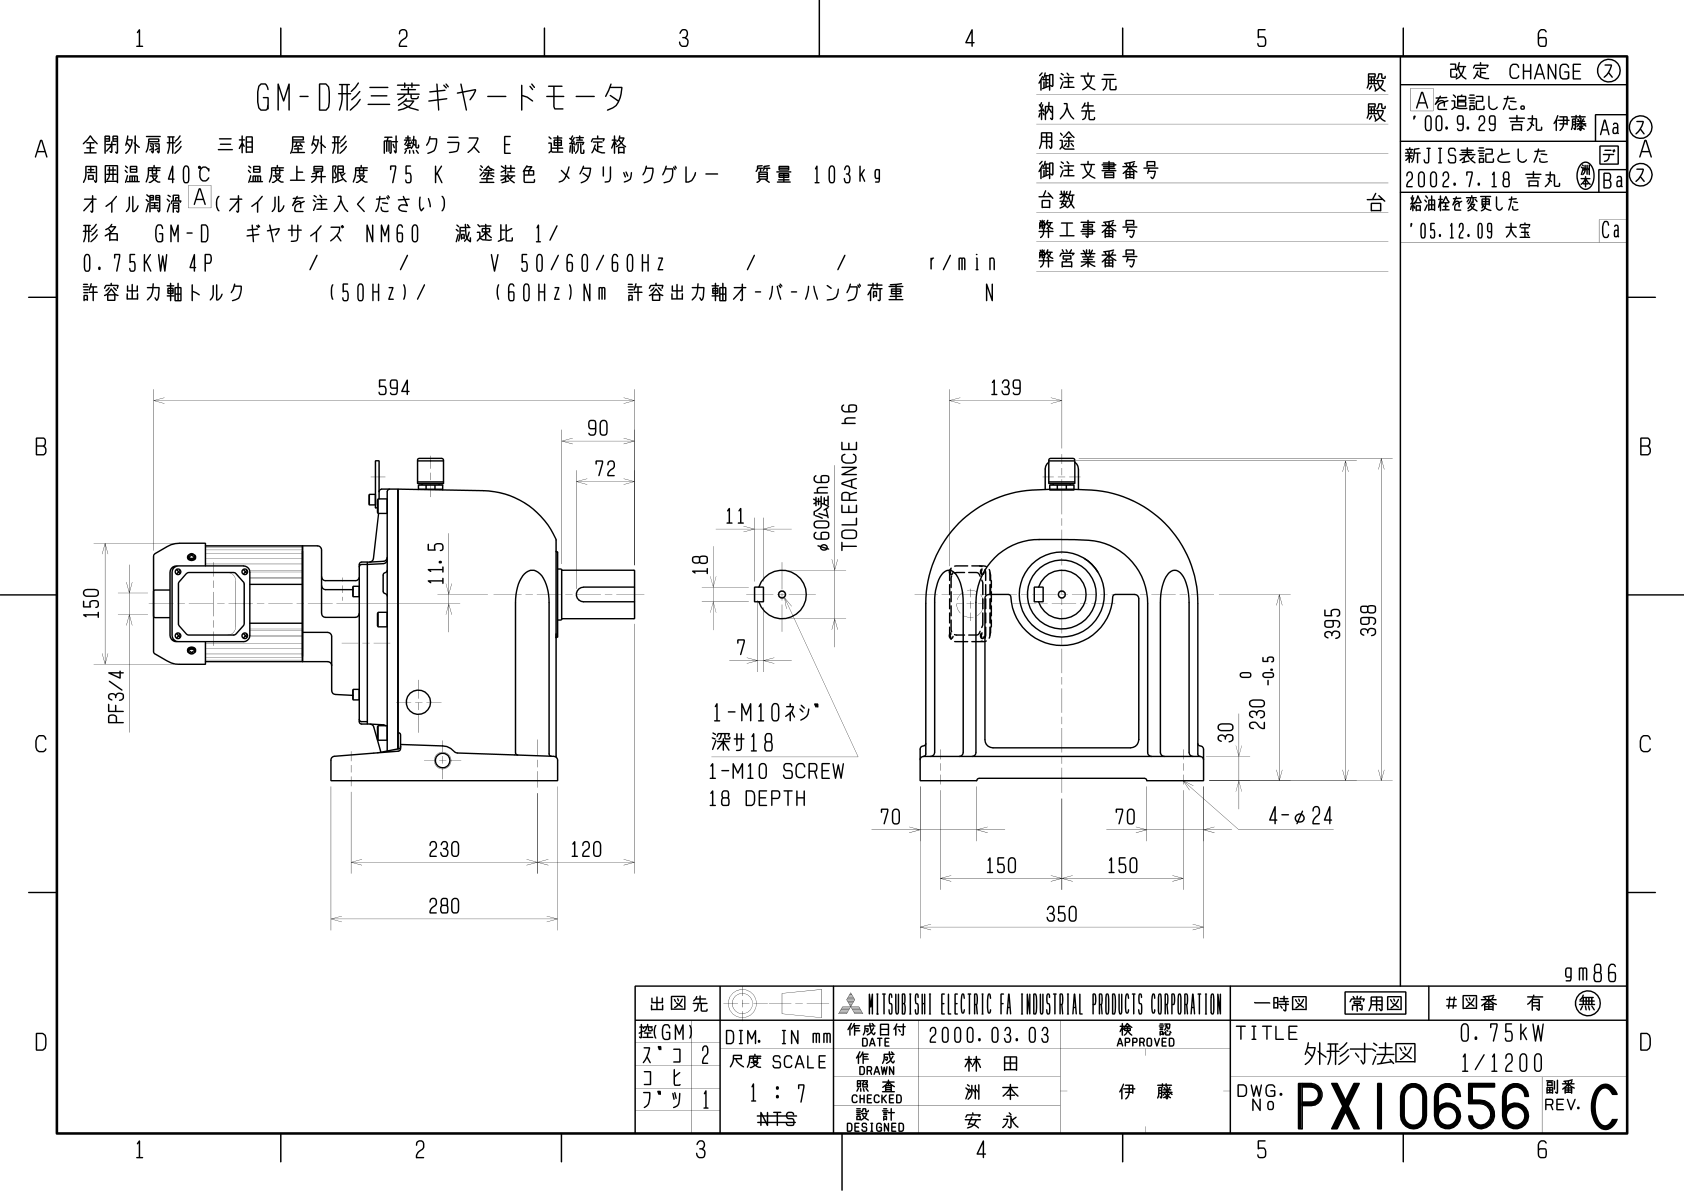GM_D_屋外＿三相_脚: (71, 343, 1399, 967)
